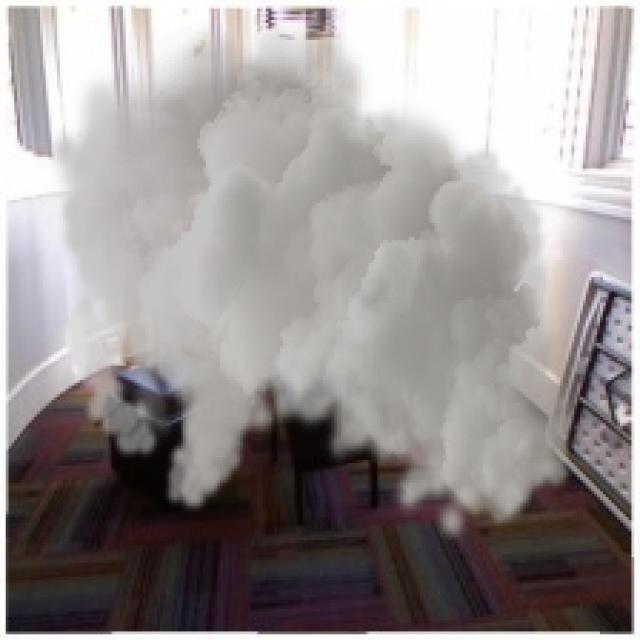Smoke: (45, 6, 578, 546)
